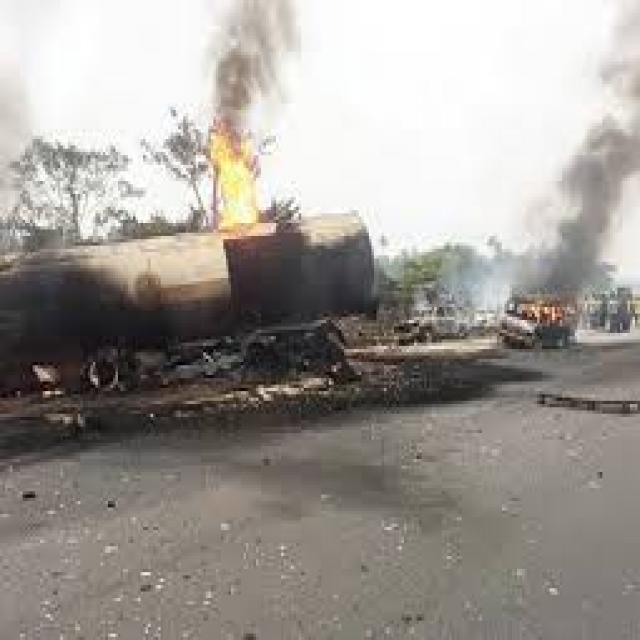fire: (206, 136, 261, 232)
smoke: (512, 4, 640, 298), (208, 3, 322, 136), (447, 256, 509, 310)
